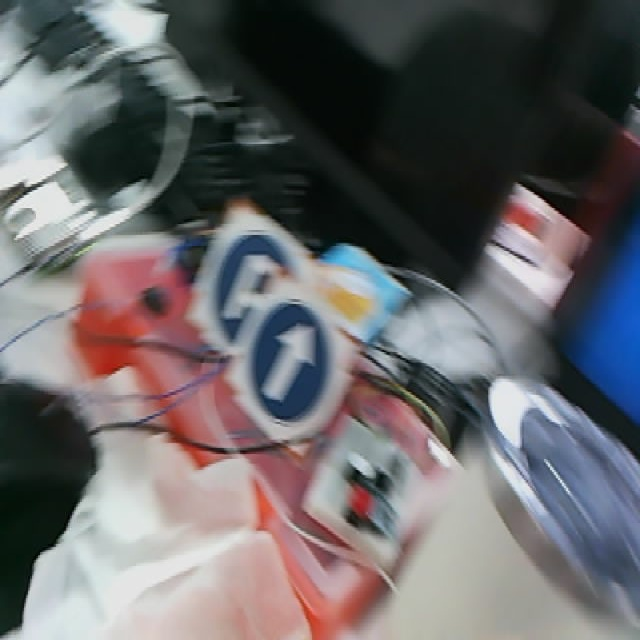parking: (186, 198, 317, 356)
straight: (229, 273, 351, 447)
